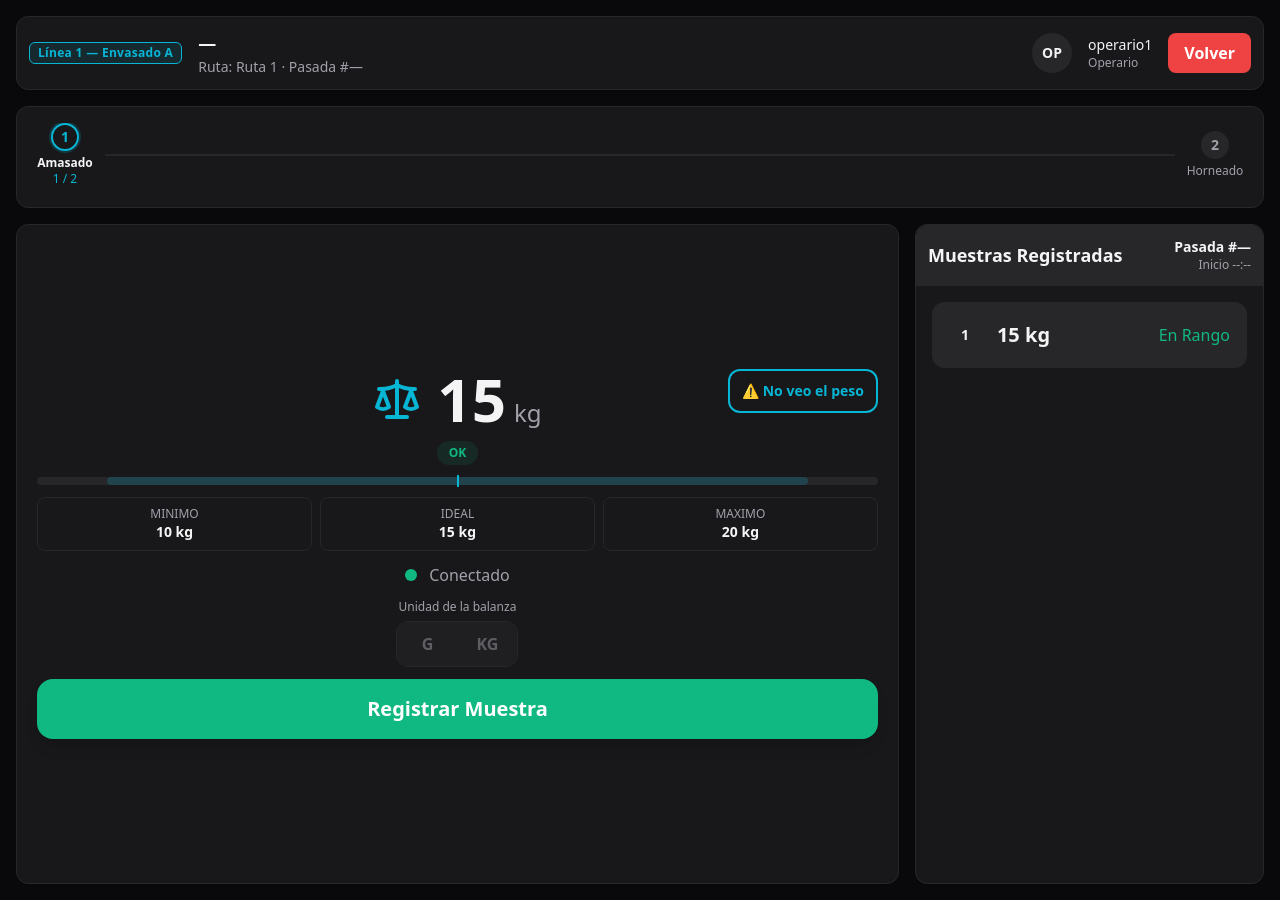
Scenario: TabletWorkspace › muestra el overlay StageAdvanceFlash al completar una etapa y avanzar automáticamente a la siguiente
The width and height of the screenshot is (1280, 900).
Expected: the text "1 / 2" is shown, [53,171,77,187]
What coordinates should you click on to do the following:
click the button "Registrar Muestra"
I would click on:
 (457, 709)
Its box is [37,679,878,739].
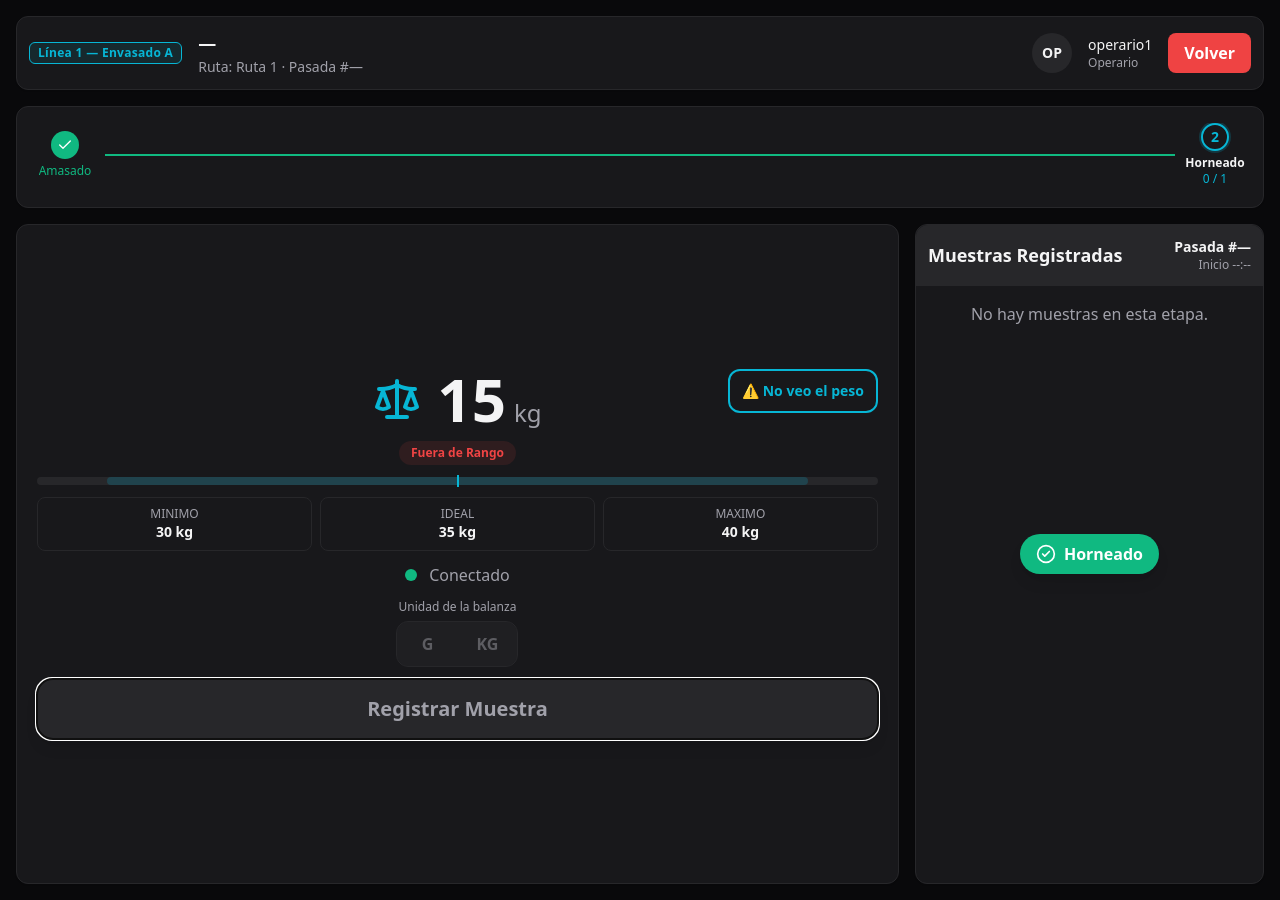
Expected: the element with test id "stage-advance-flash" is shown, [916,225,1263,883]
